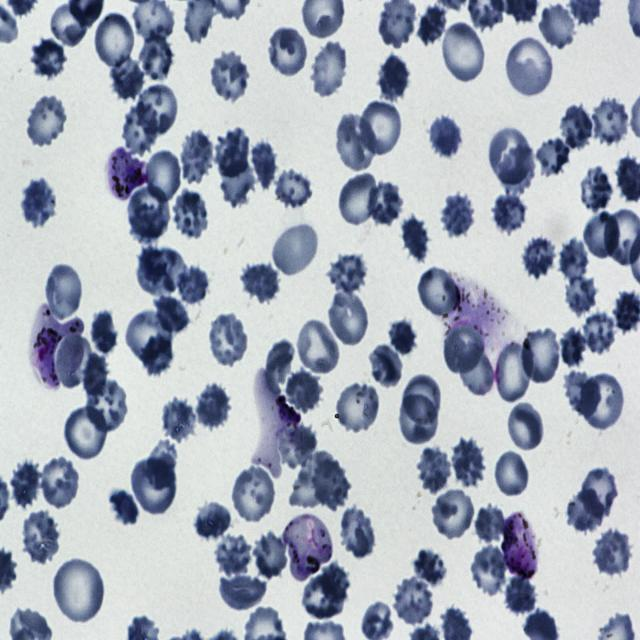difficult: (30, 302, 84, 390), (500, 508, 540, 582)
red blood cell: (52, 555, 106, 626), (504, 34, 554, 99), (130, 454, 179, 517), (440, 20, 487, 85), (230, 463, 278, 525), (488, 124, 535, 187), (270, 219, 320, 278), (578, 370, 625, 432), (295, 317, 342, 378), (333, 110, 378, 173), (358, 97, 404, 158), (334, 380, 382, 438), (416, 264, 464, 321), (125, 184, 172, 242), (24, 92, 70, 150), (519, 324, 562, 386), (431, 483, 476, 542), (288, 449, 333, 508), (493, 337, 532, 405), (326, 288, 370, 348), (64, 404, 110, 461), (298, 568, 350, 618), (207, 47, 252, 104), (266, 22, 310, 80), (137, 245, 189, 294), (136, 81, 180, 138), (84, 378, 131, 431), (127, 310, 174, 363), (44, 261, 84, 322), (398, 388, 440, 446), (206, 313, 250, 368), (38, 454, 80, 510), (442, 324, 487, 376), (402, 373, 446, 425), (338, 172, 378, 229), (142, 147, 182, 204), (19, 506, 58, 564), (167, 191, 211, 242), (469, 543, 508, 600), (95, 12, 134, 69), (592, 526, 634, 578), (20, 175, 58, 231), (177, 130, 215, 186), (506, 401, 546, 454), (337, 505, 377, 558), (55, 332, 91, 390), (582, 208, 621, 261), (252, 527, 291, 580), (310, 44, 348, 98), (580, 468, 618, 522), (123, 100, 159, 156), (314, 457, 352, 510), (194, 380, 233, 431), (367, 342, 407, 391), (284, 365, 324, 414), (564, 488, 606, 534), (392, 578, 433, 625), (536, 4, 577, 51), (590, 97, 630, 145), (217, 572, 267, 610), (494, 449, 531, 500), (242, 258, 282, 305), (439, 192, 478, 240), (557, 102, 595, 151), (456, 347, 494, 396), (374, 52, 410, 103), (447, 439, 486, 486), (214, 128, 250, 178), (220, 160, 256, 210), (107, 54, 146, 100), (366, 180, 404, 227), (488, 191, 529, 234), (50, 2, 88, 48), (566, 369, 601, 418), (175, 261, 212, 307), (140, 32, 174, 82), (418, 445, 452, 495), (578, 166, 614, 213), (282, 424, 318, 471), (214, 534, 252, 578), (10, 460, 44, 509), (160, 396, 196, 442), (427, 114, 462, 160), (273, 168, 313, 208), (534, 136, 572, 178), (521, 235, 558, 278), (327, 253, 367, 292), (564, 274, 598, 317), (154, 295, 192, 333), (30, 38, 66, 78), (583, 311, 616, 354), (139, 336, 174, 376), (401, 214, 429, 264), (559, 236, 589, 282), (195, 503, 231, 541), (504, 576, 538, 616), (82, 350, 109, 398), (473, 505, 506, 544), (417, 2, 447, 44), (252, 139, 276, 190), (412, 549, 446, 585), (92, 310, 118, 356), (560, 328, 588, 370), (388, 318, 417, 357)
trophozoite: (253, 368, 300, 478), (284, 512, 330, 584), (104, 147, 148, 202)
